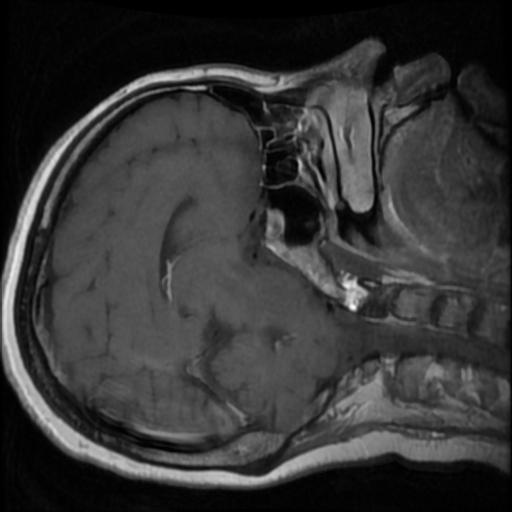pituitary tumour: (264, 208, 284, 241)
